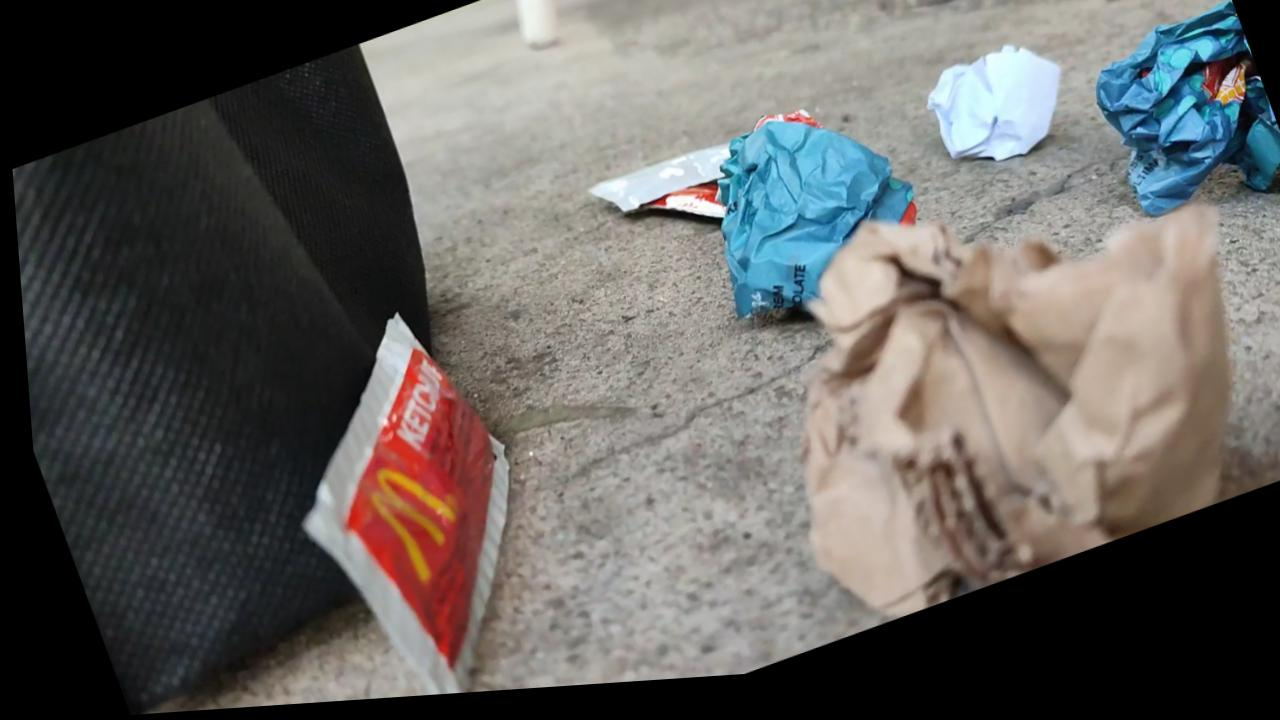paper: (717, 98, 1280, 637), (667, 57, 958, 344), (1074, 0, 1280, 231), (890, 3, 1106, 205)
